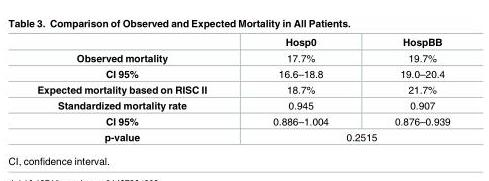table: (36, 37, 449, 142)
table column: (36, 37, 239, 142), (239, 37, 360, 142), (360, 37, 449, 142)
table column header: (36, 37, 449, 50)
table row: (36, 50, 449, 66), (36, 66, 449, 82), (36, 97, 449, 113), (36, 113, 449, 129), (36, 82, 449, 97), (36, 37, 449, 50), (36, 129, 449, 142)
table spanning cell: (239, 129, 449, 142)
